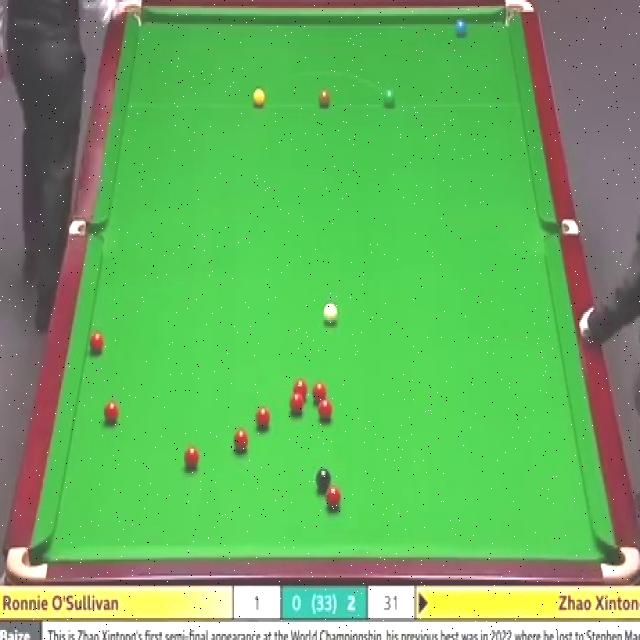black-ball: (315, 467, 332, 496)
blue-ball: (454, 17, 470, 41)
brown-ball: (318, 89, 331, 110)
green-ball: (382, 89, 397, 110)
red-ball: (101, 398, 120, 428), (325, 486, 342, 513), (233, 430, 250, 457), (182, 445, 200, 470), (256, 408, 272, 432), (288, 393, 304, 417), (88, 331, 103, 356), (318, 398, 333, 422), (292, 379, 308, 400), (312, 383, 328, 402)
white-ball: (320, 299, 340, 329)
yellow-ball: (252, 88, 266, 109)
